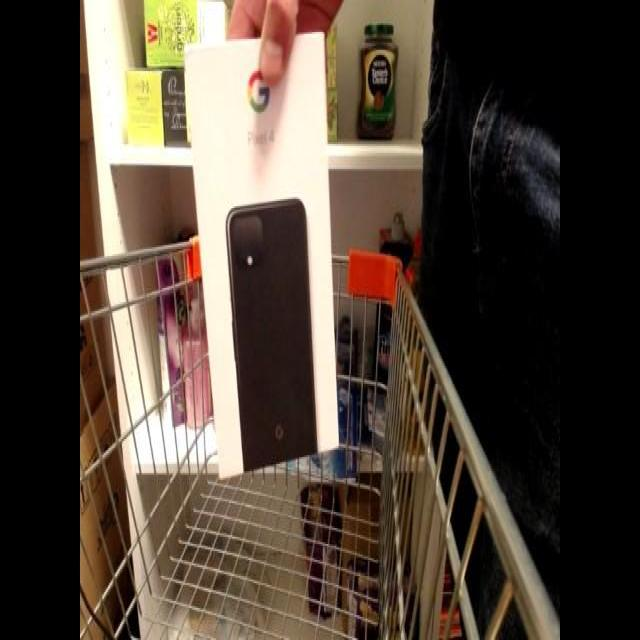Pixel 4: (182, 14, 348, 502)
